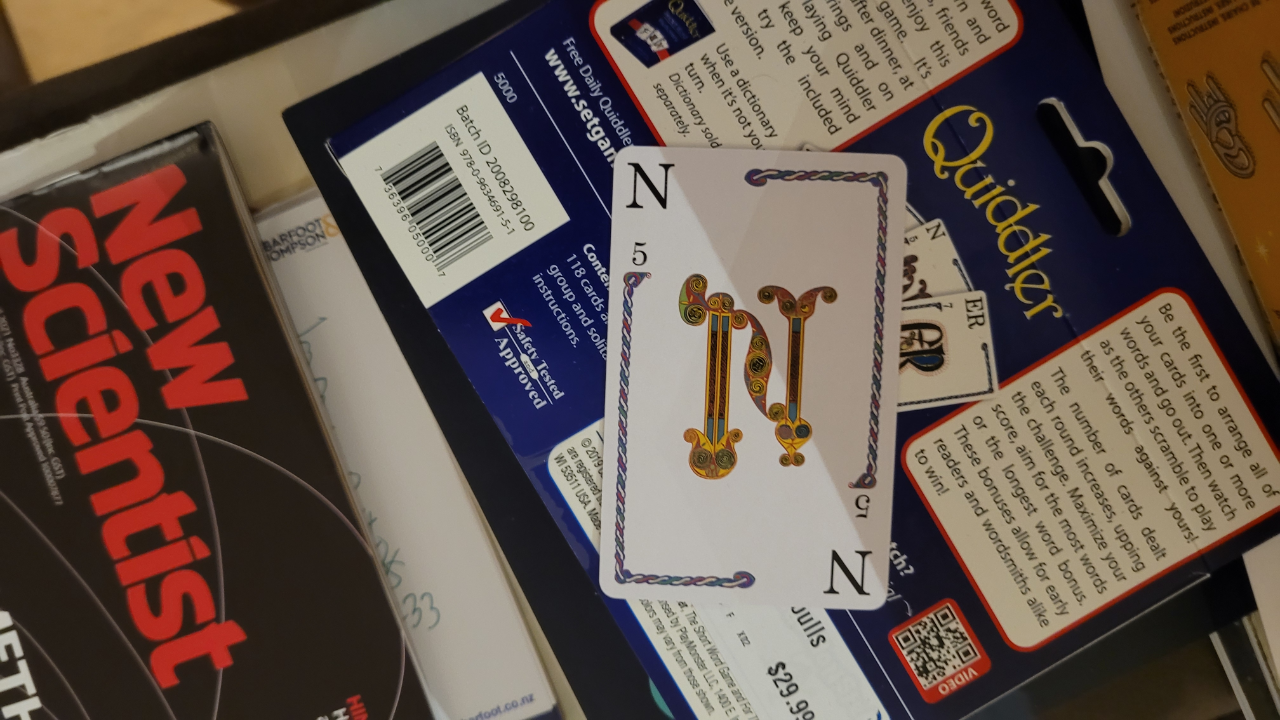quiddler_card: (584, 121, 928, 641)
